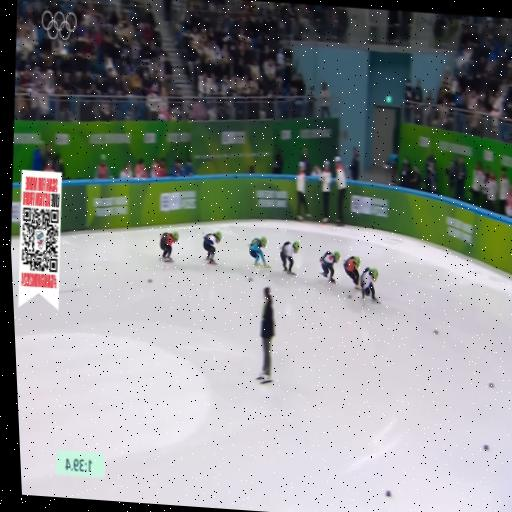Skater: (358, 268, 378, 306), (279, 241, 298, 275), (319, 251, 339, 283), (248, 237, 269, 267), (202, 231, 220, 263), (159, 231, 177, 262), (343, 257, 359, 289)
